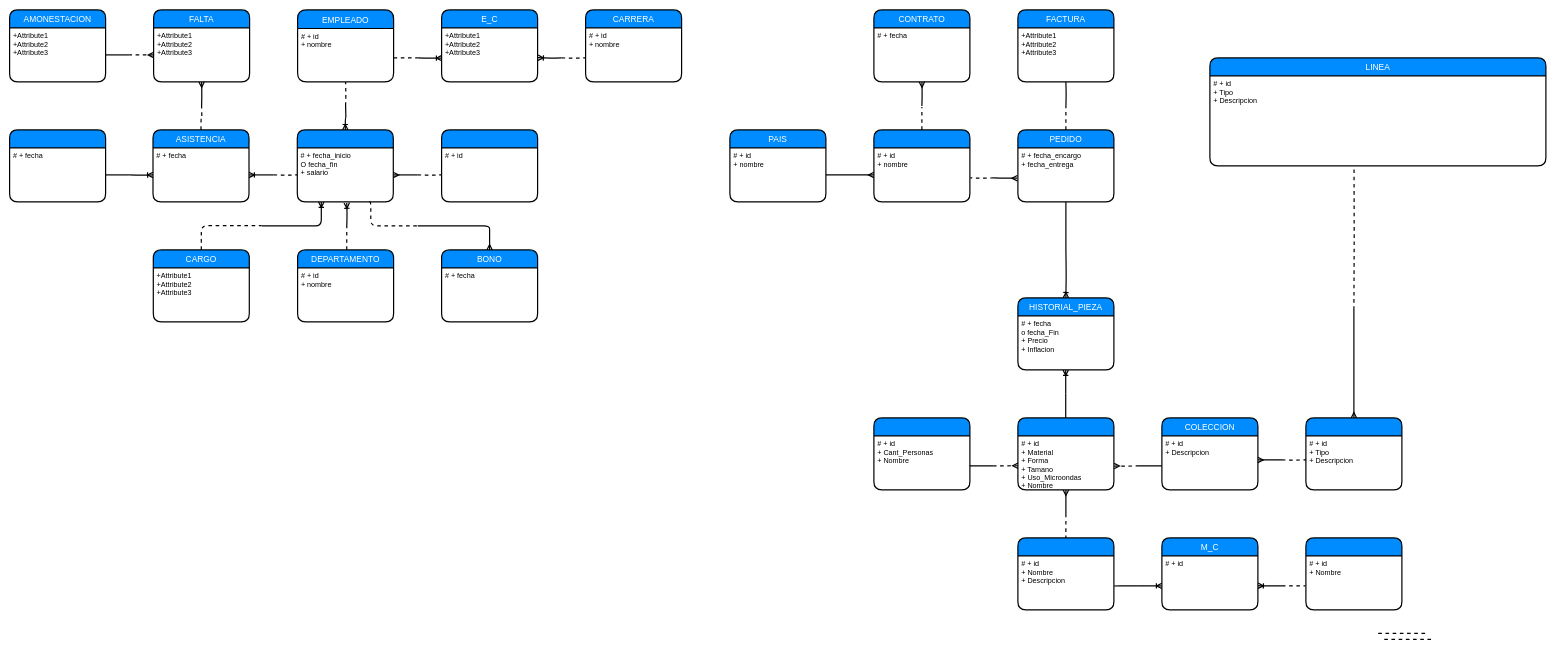
Image size: 1556x649. Some labels were removed from this diagram. The shapes that lost their labels are listed below. From the top down, each one's box as (x1, y1, x2, y2) in pixels, then its label:
(9, 129, 106, 202): REUNION
(296, 129, 394, 202): EMPLEO
(441, 129, 538, 202): HORARIO
(873, 129, 970, 202): CLIENTE
(873, 417, 970, 490): JUEGO
(1017, 417, 1114, 490): PIEZA
(1305, 417, 1402, 490): CATEGORIA
(1017, 537, 1114, 610): MOTIVO
(1305, 537, 1402, 610): COLOR
